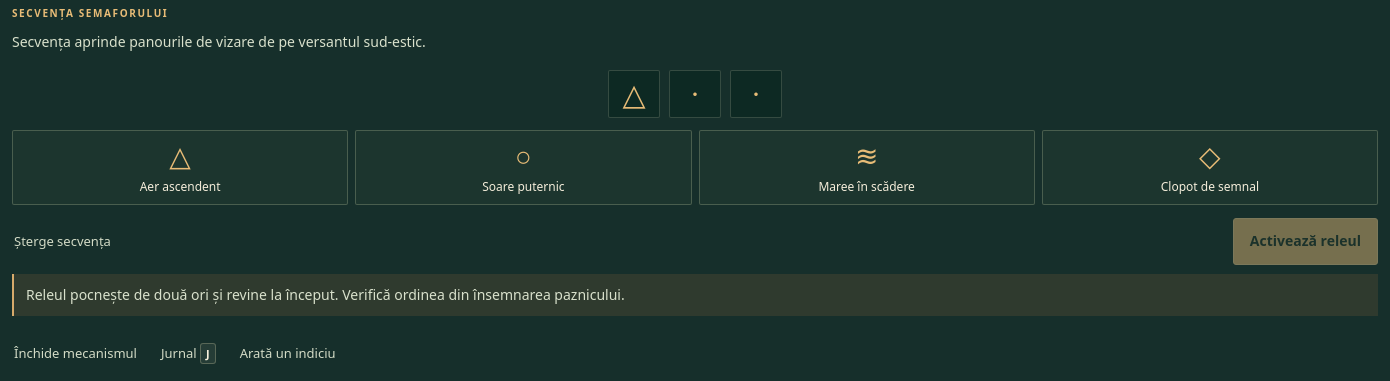
Romanian game controls solve four mechanisms after wrong attempts, and the ending stays gated
Earlier steps of the test are not shown.
Later steps or results of the test are not shown.
Click the button "○ Soare puternic". click: (523, 168)
box: [355,130,692,205]
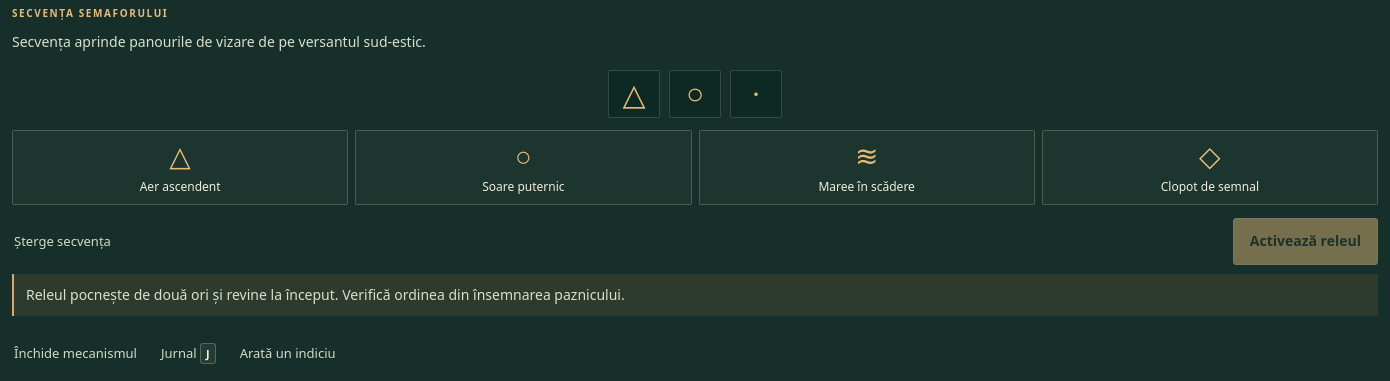
Click the button "≋ Maree în scădere". click: (867, 168)
box: [698,130,1035,205]
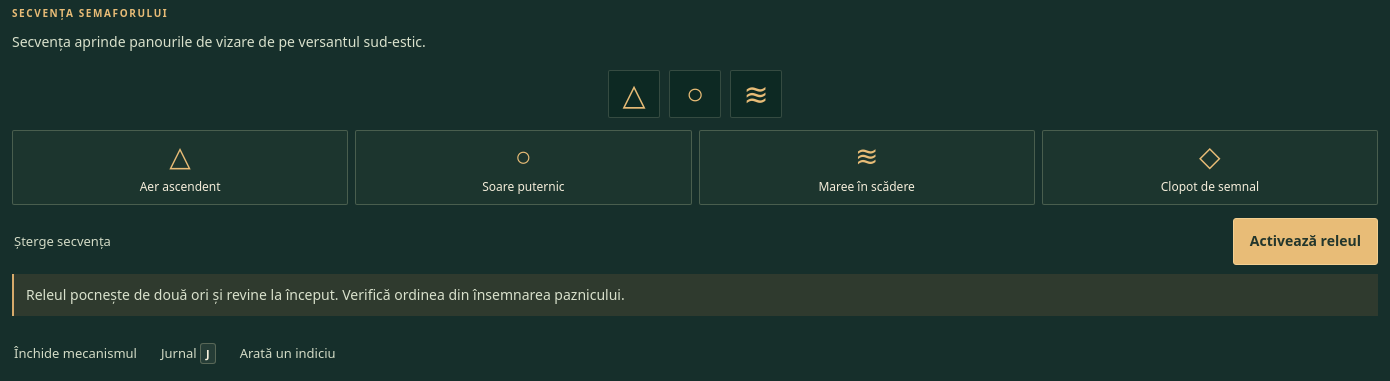
Click the button "Activează releul". click: (1305, 241)
box: [1233,218,1378,265]
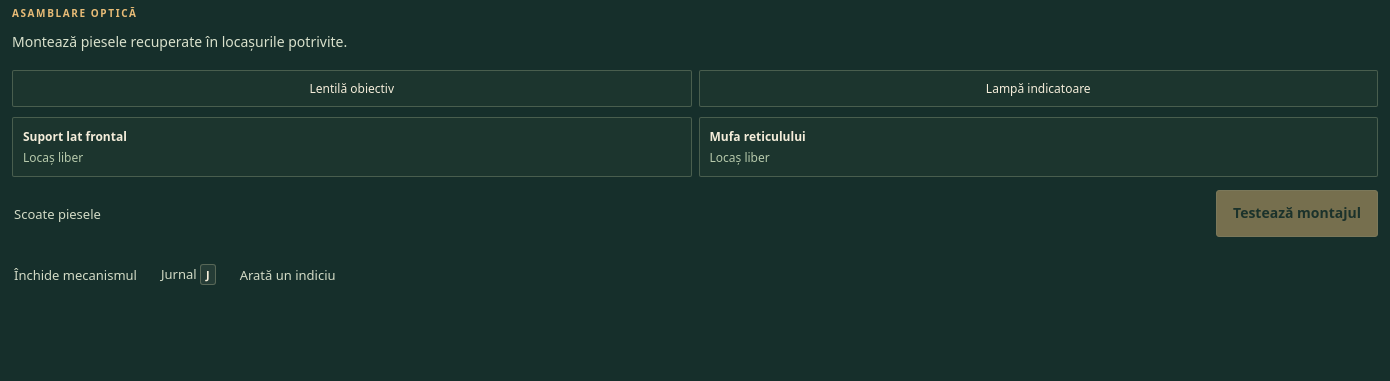
Click the button "Lampă indicatoare". click: (1038, 89)
box: [698,70,1378,107]
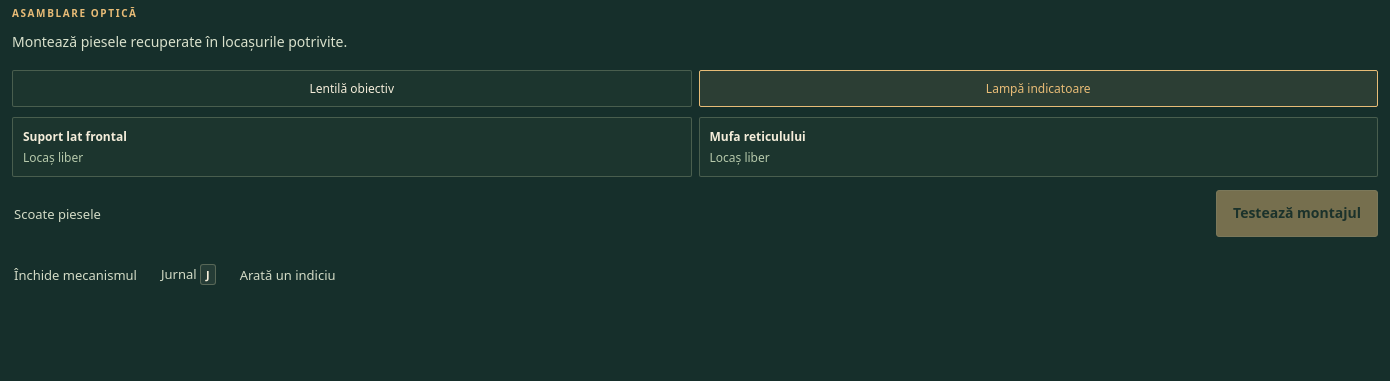
Check: the button "Suport lat frontal Locaș liber" is shown
Click the button "Suport lat frontal Locaș liber". click: (75, 137)
box: [12,117,692,177]
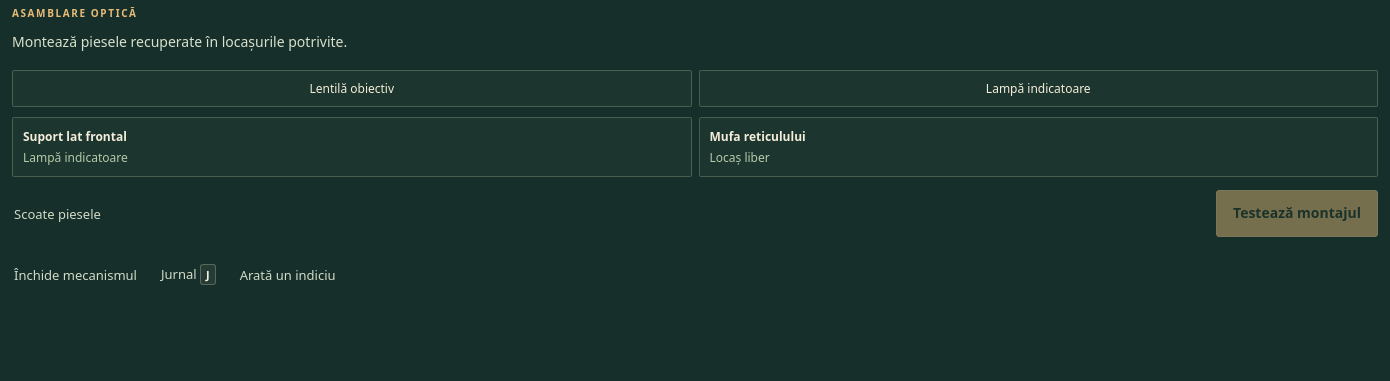
Click the button "Lentilă obiectiv". click: (352, 89)
box: [12,70,692,107]
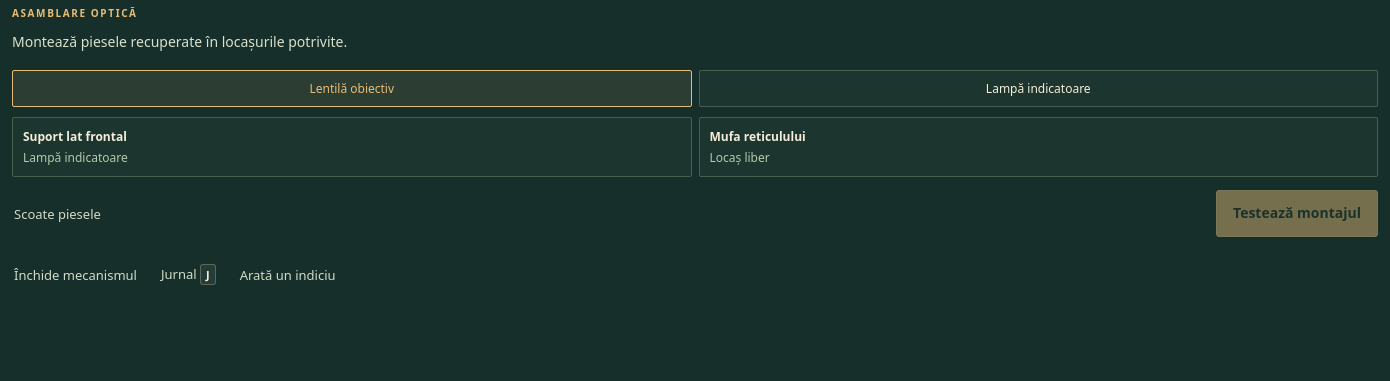
Check: the button "Mufa reticulului Locaș liber" is shown, box [698,117,1378,177]
